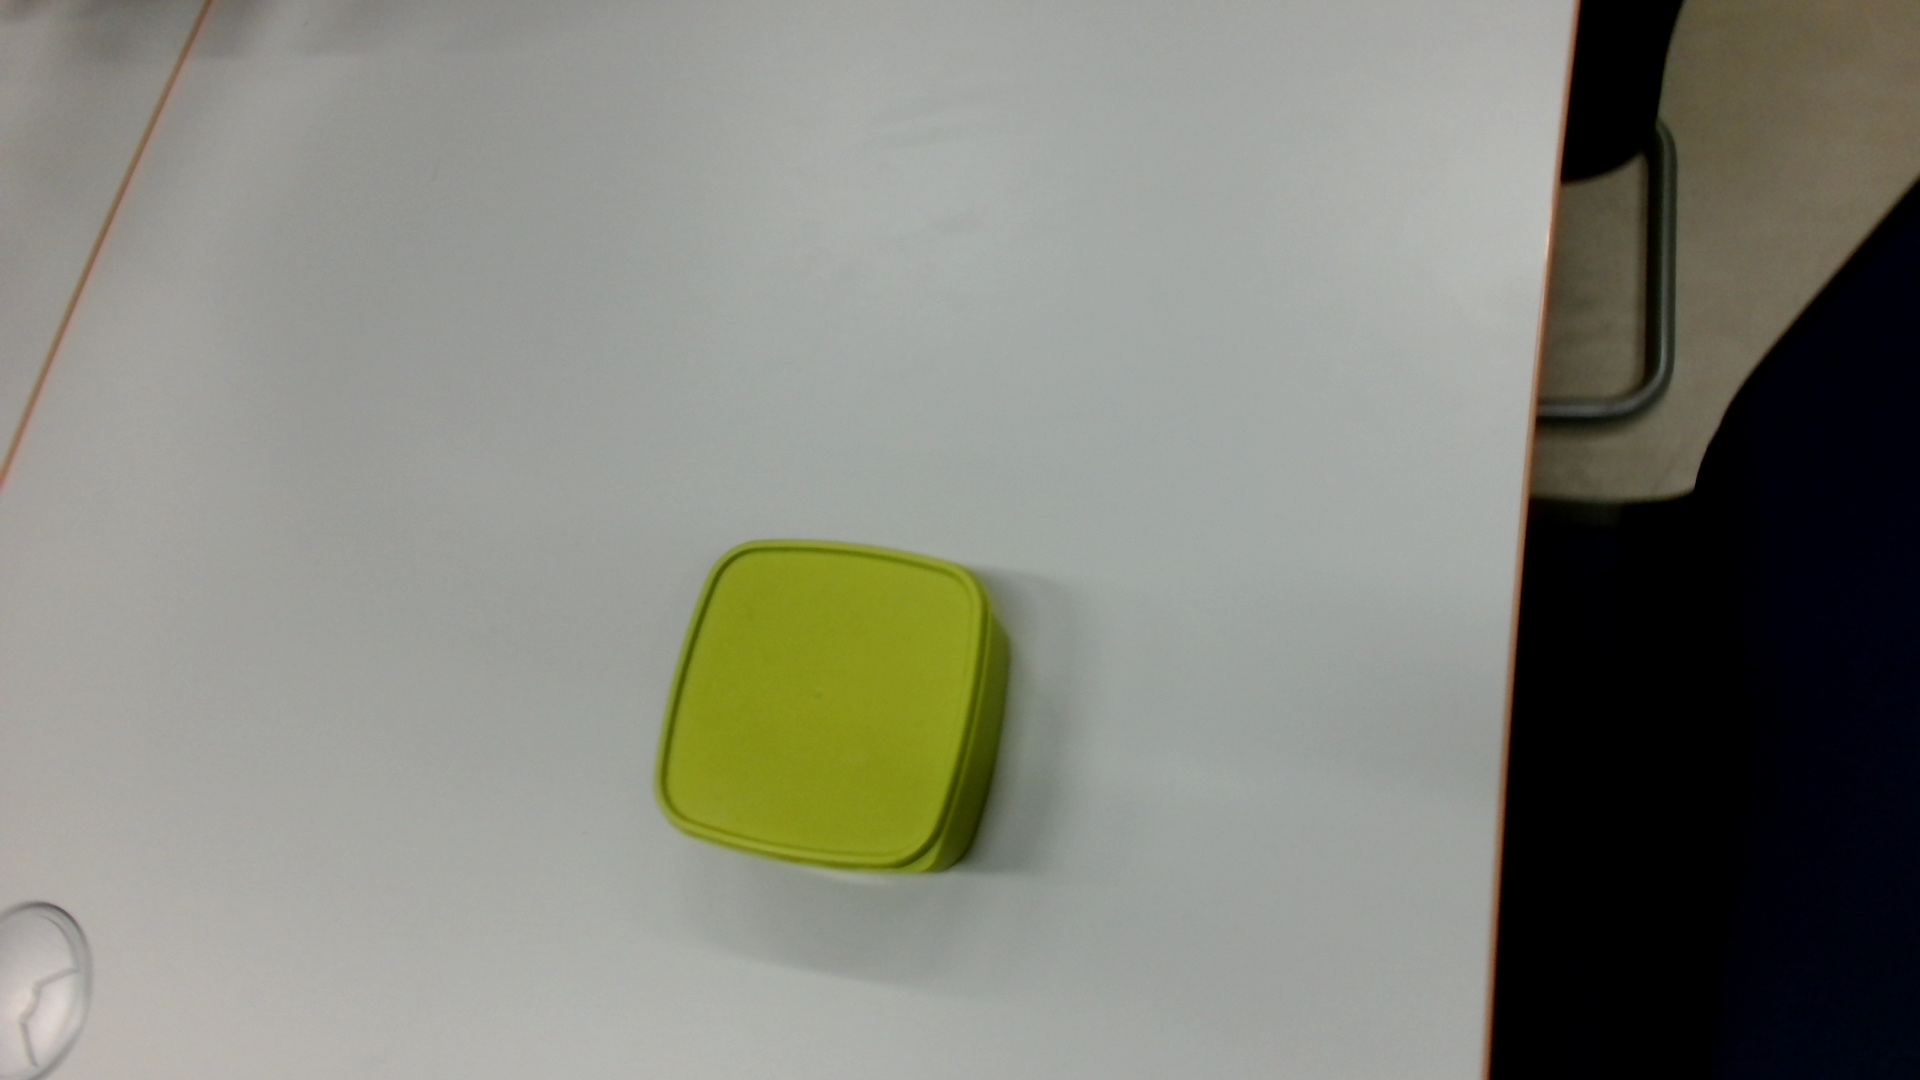Box: (644, 531, 1019, 881)
